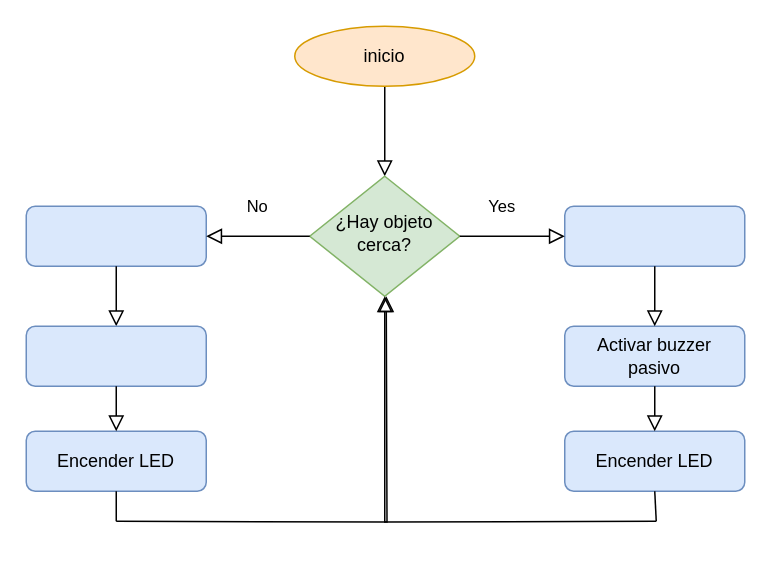
This 771x564 diagram has some shape labels left out. Each missing label, with the box of its shape:
Desactivar buzzer pasivo: (25, 325, 206, 386)
Mover servo 0°: (25, 205, 206, 266)
Mover servo 180°: (563, 205, 745, 266)
